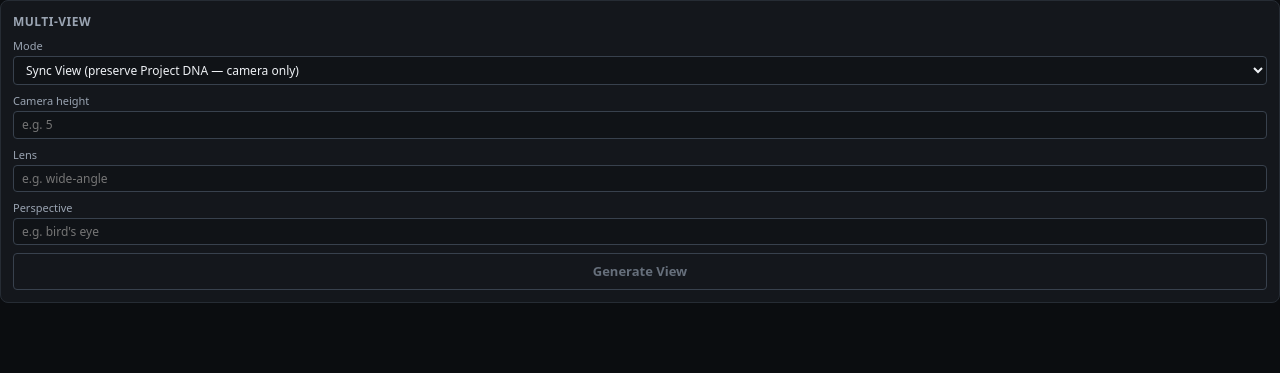
Test: MultiViewPanel — BUILD 15 Multi-View / Sync / Creative View › only shows the style field in Creative mode
expect the field labelled "Style proposal" is not shown: met
Select "Creative View (preserve Architecture DNA only)" in the dropdown labelled "Mode" at [640, 71], box [13,56,1267,85]
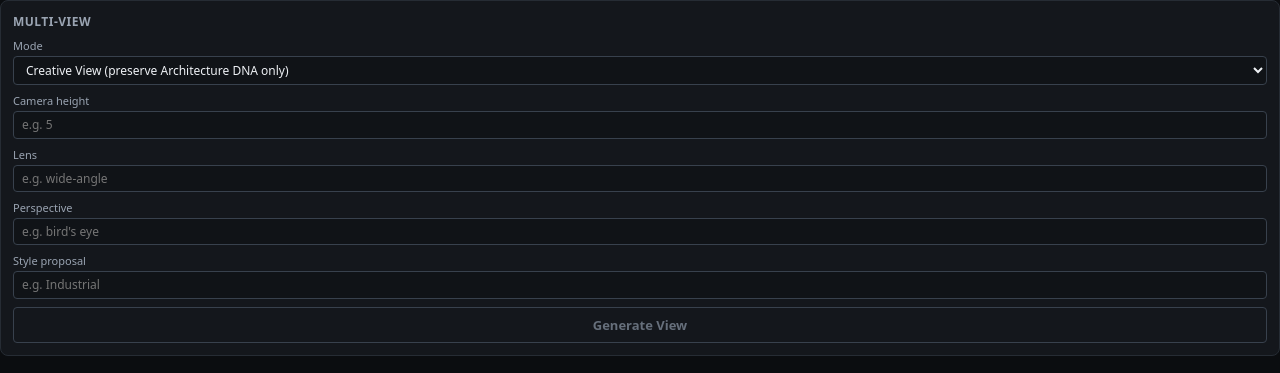
expect the field labelled "Style proposal" is shown: met, box [13,271,1267,299]
